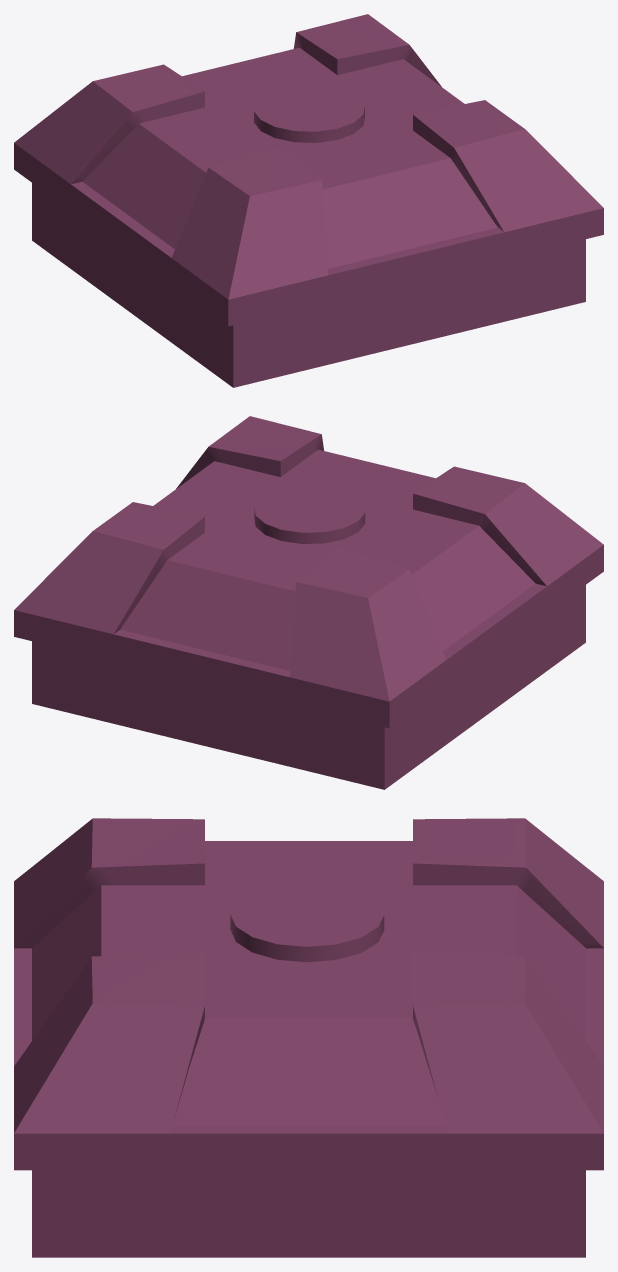
File: PressurePlate_button.fbx
3 views of the same model, one above another, from view 1: azimuth 30°, elevation 25°; view 2: azimuth 150°, elevation 25°; view 3: azimuth 270°, elevation 25° (orthographic). The views are drawn at different scales.
Visible parts, largest first — view 1: PressurePlate_button; view 2: PressurePlate_button; view 3: PressurePlate_button.
Boxes of the visible parts, x1,y1,x2,y2 form: PressurePlate_button: (14, 14, 603, 387); PressurePlate_button: (14, 416, 603, 789); PressurePlate_button: (14, 818, 603, 1257).
Size of the model in its own units: 164 by 70.36 by 163.
